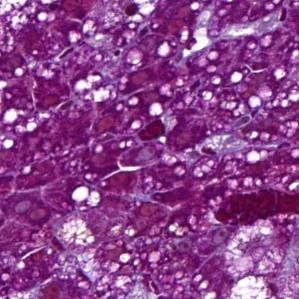ballooning: (222, 211, 294, 282), (55, 215, 97, 254)
